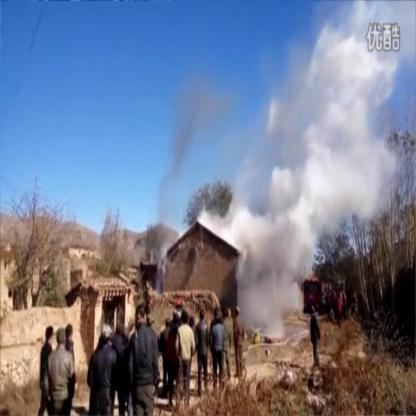smoke: (264, 88, 395, 211), (237, 247, 294, 332), (304, 18, 366, 87), (268, 212, 328, 249), (211, 211, 266, 248)
